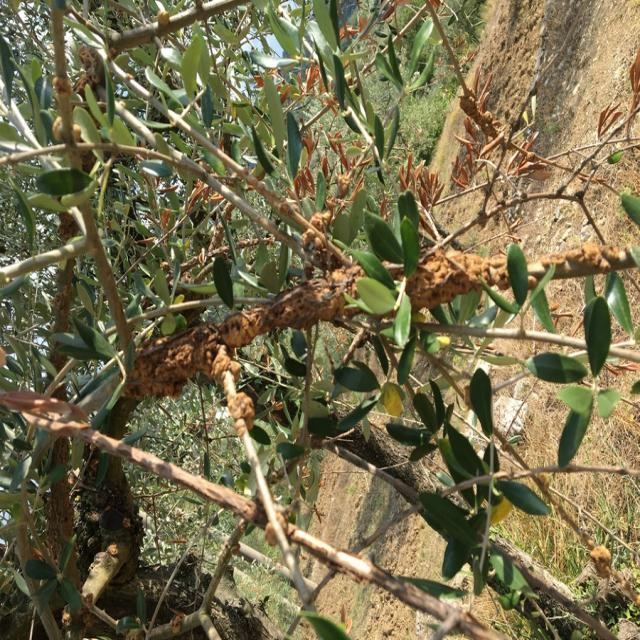Tuberculosis: (219, 265, 361, 347), (125, 323, 216, 398), (404, 248, 510, 311), (528, 242, 634, 278), (302, 212, 336, 258), (212, 345, 240, 388), (228, 392, 254, 438), (590, 545, 608, 581), (170, 616, 184, 634), (106, 540, 119, 558)
